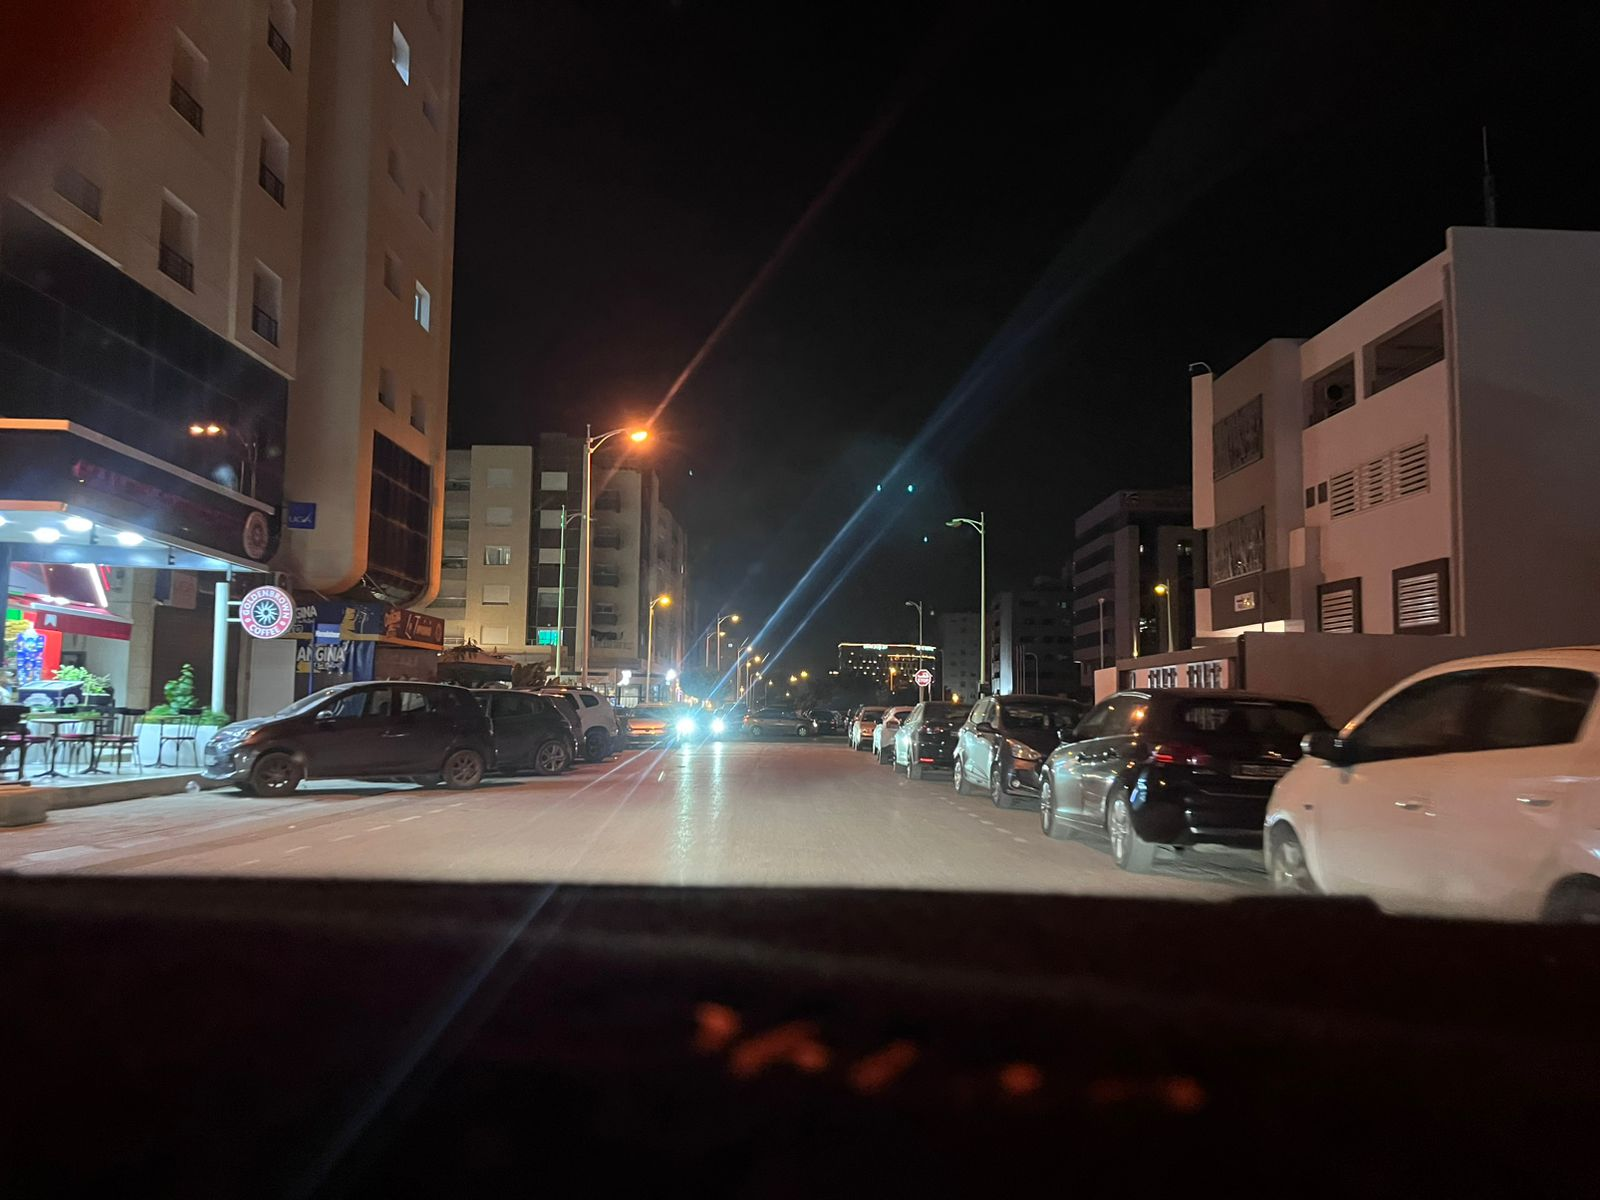Stop: (915, 669, 931, 687)
